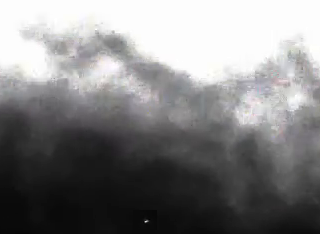Target: (145, 220, 148, 222)
